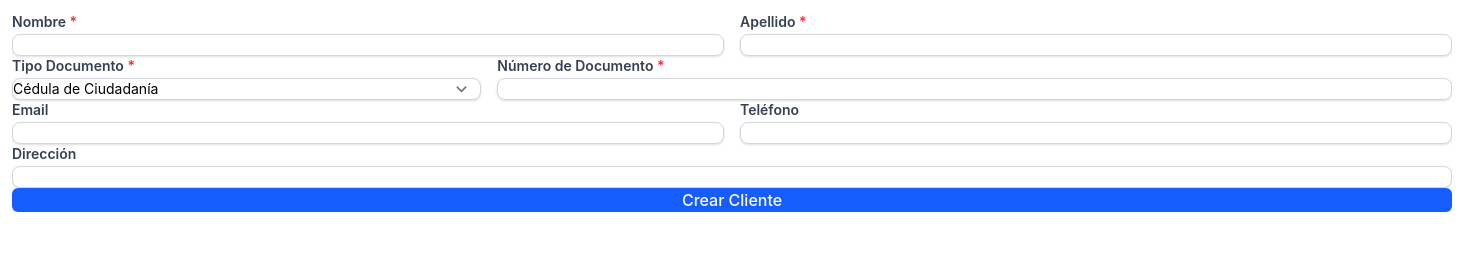
FormularioClienteV2 › muestra errores de validación al intentar enviar sin datos requeridos
Click the button "Crear Cliente" at (732, 200), box [12, 188, 1452, 212]
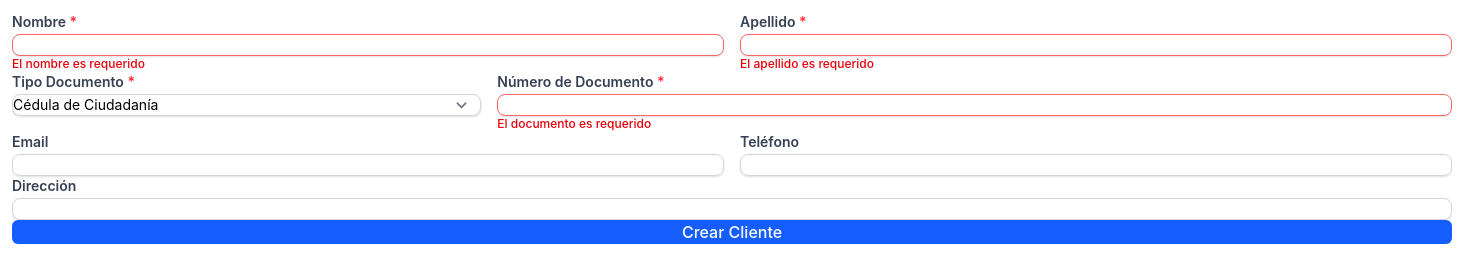
Expected: the text "El nombre es requerido" is shown, [12, 56, 145, 71]
